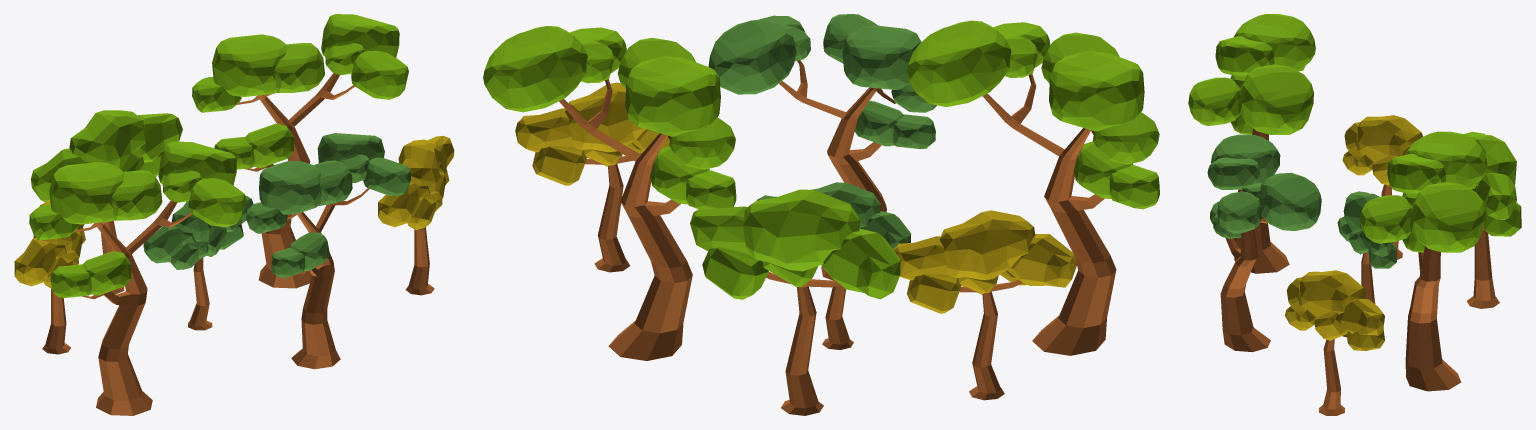
Rendered from ArbolesConjunto2.obj.
3 views of the same model, side by side, from view 1: azimuth 30°, elevation 25°; view 2: azimuth 150°, elevation 25°; view 3: azimuth 270°, elevation 25° (orthographic). The views are drawn at different scales.
Visible parts, largest first — view 1: Arbol007, Arbol004, Grupo02, Arbol002, Arbol07, Arbol005, TroncoA005, Arbol001, TroncoA004, Arbol003, Arbol006, TroncoA003 (+1 smaller); view 2: Arbol007, Arbol004, Arbol002, Grupo02, Arbol003, TroncoA004, Arbol07, Arbol005, TroncoA005, TroncoA002, Arbol001, TroncoA003 (+2 smaller); view 3: Arbol004, Arbol007, Grupo02, Arbol005, TroncoA004, Arbol003, Arbol002, TroncoA005, Arbol001, TroncoA002, Arbol07, Arbol006 (+1 smaller).
Boxes of the visible parts, box(x1,y1,x2,y2) form: Arbol007: box(29, 141, 246, 298); Arbol004: box(192, 14, 408, 169); Grupo02: box(246, 133, 410, 277); Arbol002: box(30, 110, 182, 202); Arbol07: box(74, 200, 191, 415); Arbol005: box(378, 136, 454, 230); TroncoA005: box(287, 188, 369, 369); Arbol001: box(143, 195, 253, 269); TroncoA004: box(237, 73, 354, 288); Arbol003: box(14, 200, 85, 288); Arbol006: box(405, 227, 434, 295); TroncoA003: box(42, 289, 70, 354); Arbol007: box(906, 20, 1159, 209); Arbol004: box(483, 26, 736, 209); Arbol002: box(690, 189, 900, 299); Grupo02: box(708, 14, 936, 149); Arbol003: box(893, 210, 1076, 313); TroncoA004: box(559, 79, 692, 360); Arbol07: box(982, 74, 1116, 355); Arbol005: box(515, 82, 669, 185); TroncoA005: box(779, 60, 895, 280); TroncoA002: box(766, 268, 840, 415); Arbol001: box(756, 182, 910, 248); TroncoA003: box(959, 279, 1022, 400); Arbol004: box(1360, 131, 1487, 252); Arbol007: box(1188, 14, 1315, 134); Grupo02: box(1207, 134, 1321, 238); Arbol005: box(1284, 270, 1384, 350); TroncoA004: box(1405, 246, 1461, 391); Arbol003: box(1342, 115, 1423, 185); Arbol002: box(1464, 131, 1521, 236); TroncoA005: box(1220, 218, 1270, 352); Arbol001: box(1337, 191, 1396, 268); TroncoA002: box(1467, 225, 1499, 308); Arbol07: box(1234, 128, 1289, 273); Arbol006: box(1319, 334, 1346, 415).
Size of the model in its own units: 53.89 by 25.95 by 34.91.
